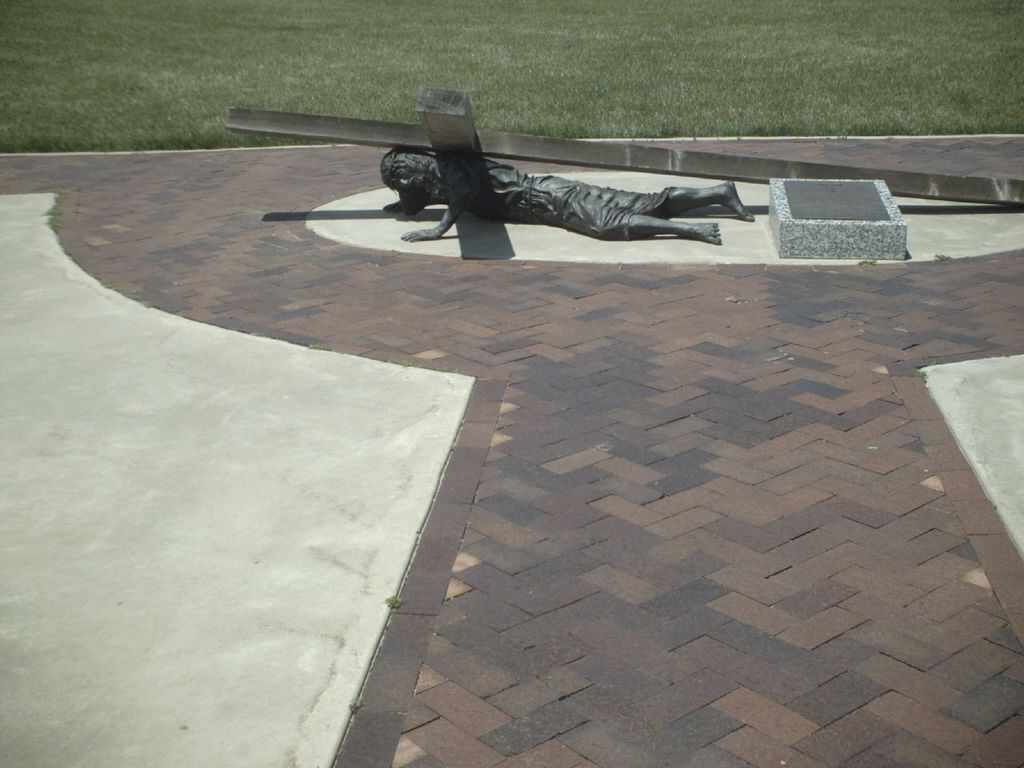person: (372, 121, 758, 246)
